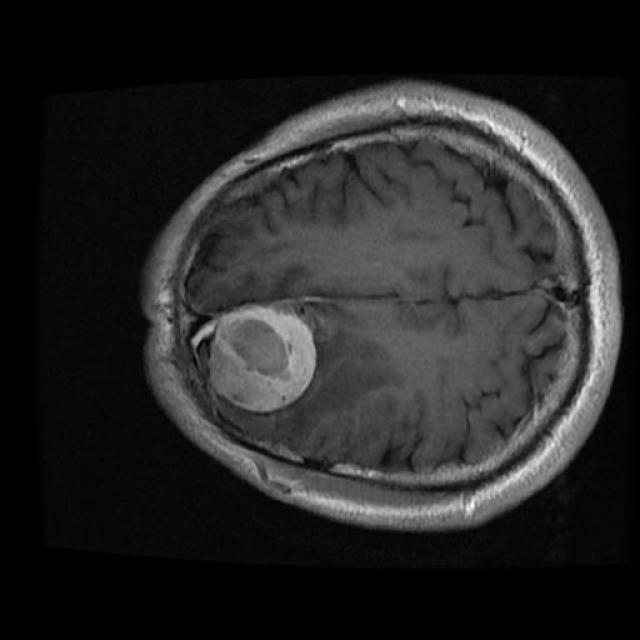Meningioma: (202, 305, 316, 412)
